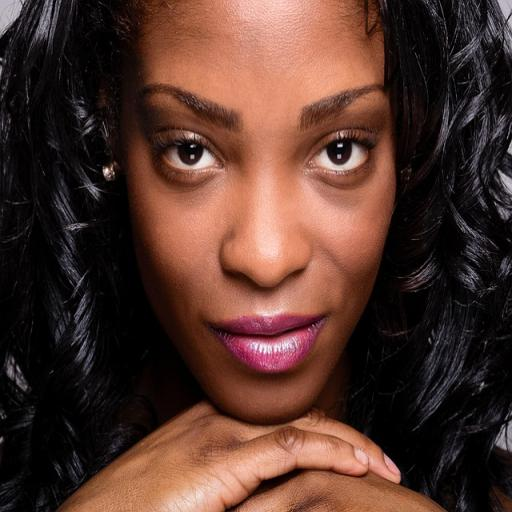lipstick: (211, 316, 324, 373)
